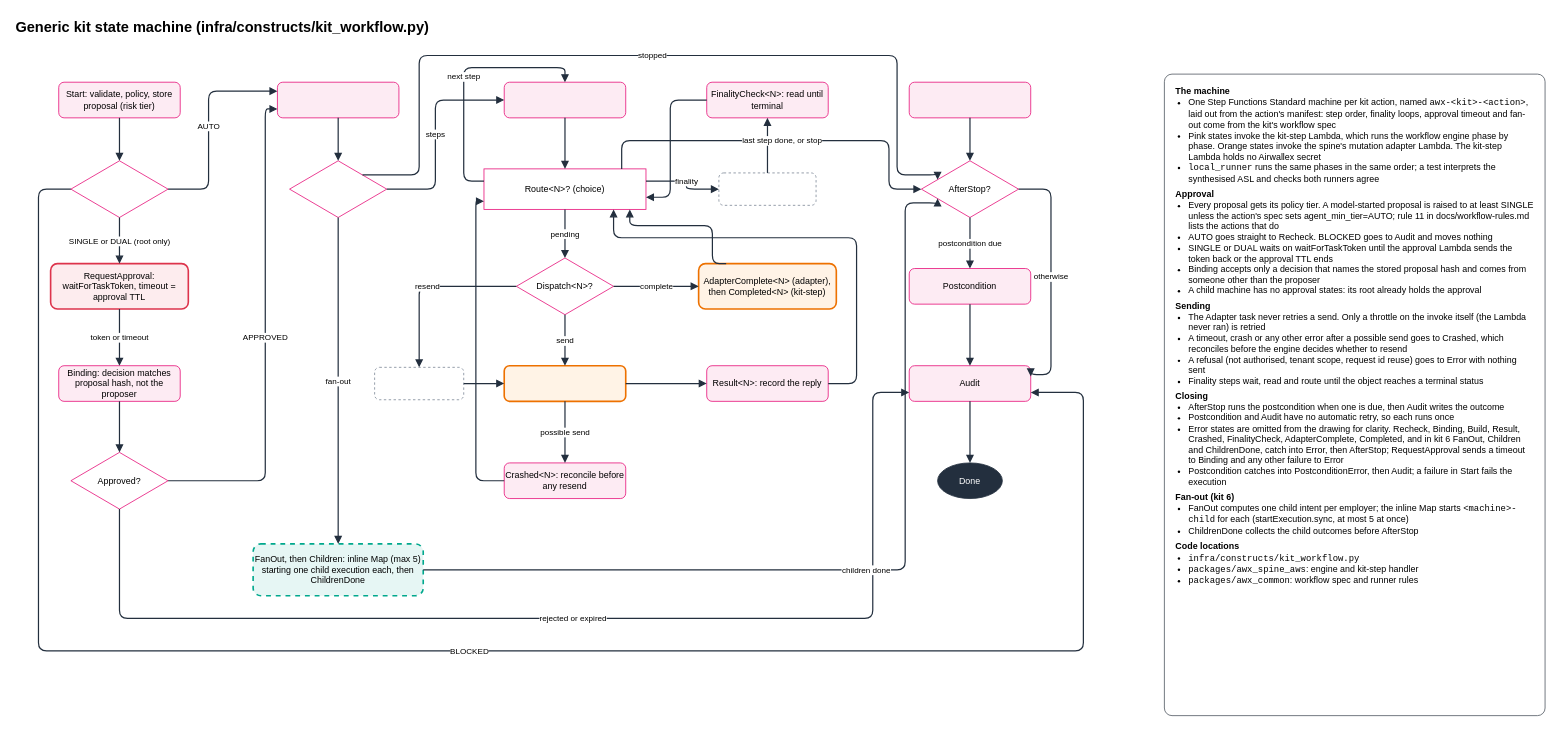
Image size: 1559x730. Some labels were removed from this diagram. Each missing label, with the centre of its shape:
Adapter<N>: mutation adapter Lambda (never retried): (x=564, y=383)
Build<N>: operations for step N: (x=564, y=99)
Error: record the failure: (x=969, y=99)
FinalityWait<N>: (x=767, y=188)
Recheck: policy again on fresh reads: (x=338, y=99)
Rechecked?: (x=338, y=188)
ResendWait<N>: (x=419, y=383)
RiskTier?: (x=119, y=188)
